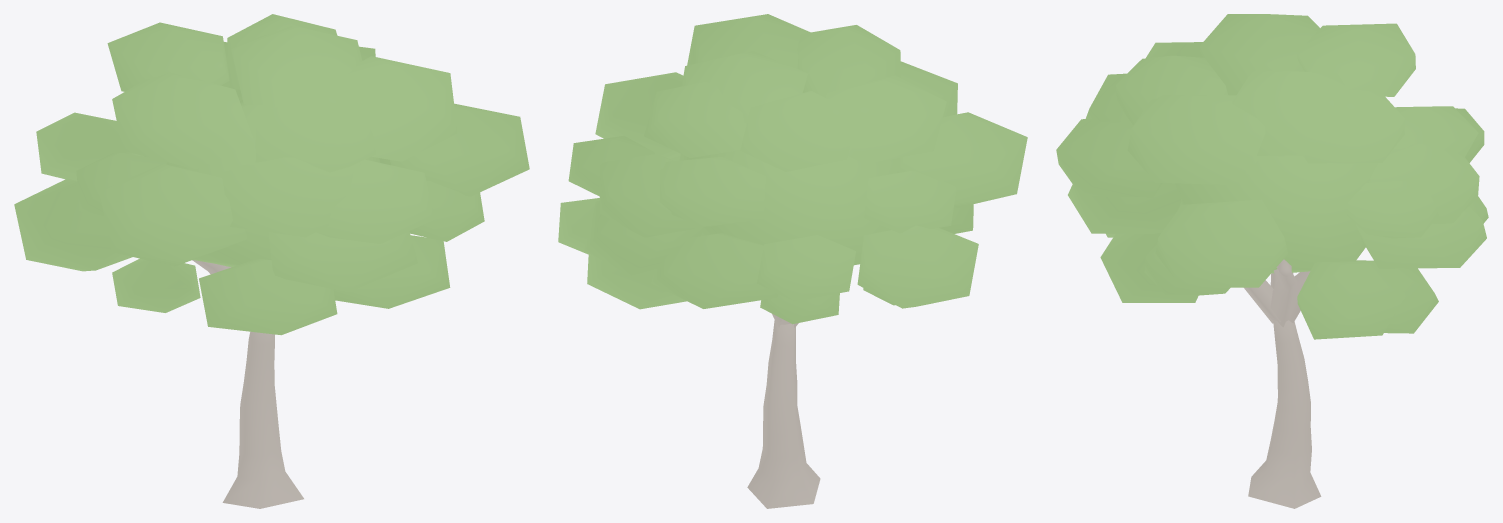
The model's file is Blender_LakeBlackOak_1_Far.glb.
3 renders of one model, left to right at view 1: azimuth 30°, elevation 25°; view 2: azimuth 150°, elevation 25°; view 3: azimuth 270°, elevation 25°, orthographic. The views are drawn at different scales.
Parts seen in each view (by area): view 1: Blender_LakeBlackOak_1_Far; view 2: Blender_LakeBlackOak_1_Far; view 3: Blender_LakeBlackOak_1_Far.
Boxes of the visible parts, x1=… form: Blender_LakeBlackOak_1_Far: x1=14, y1=14, x2=529, y2=508; Blender_LakeBlackOak_1_Far: x1=558, y1=14, x2=1027, y2=508; Blender_LakeBlackOak_1_Far: x1=1056, y1=14, x2=1488, y2=508.
Bounding box in the file's own units: 16.53 × 16.53 × 14.54.
